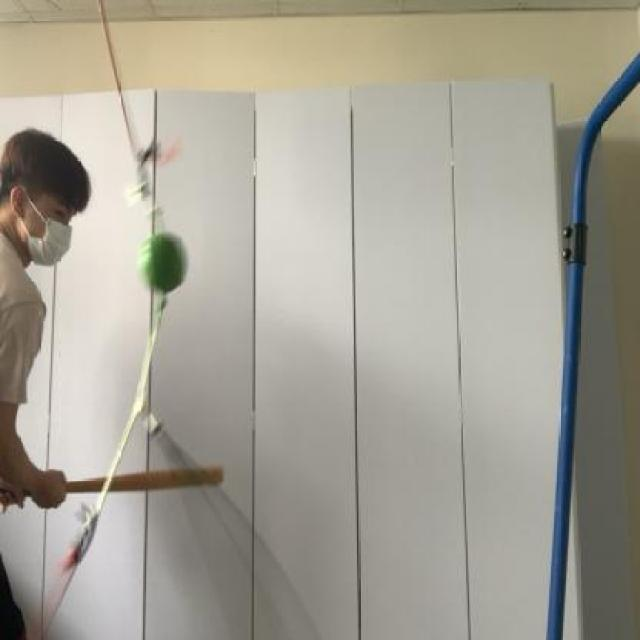baseball: (128, 234, 194, 292)
